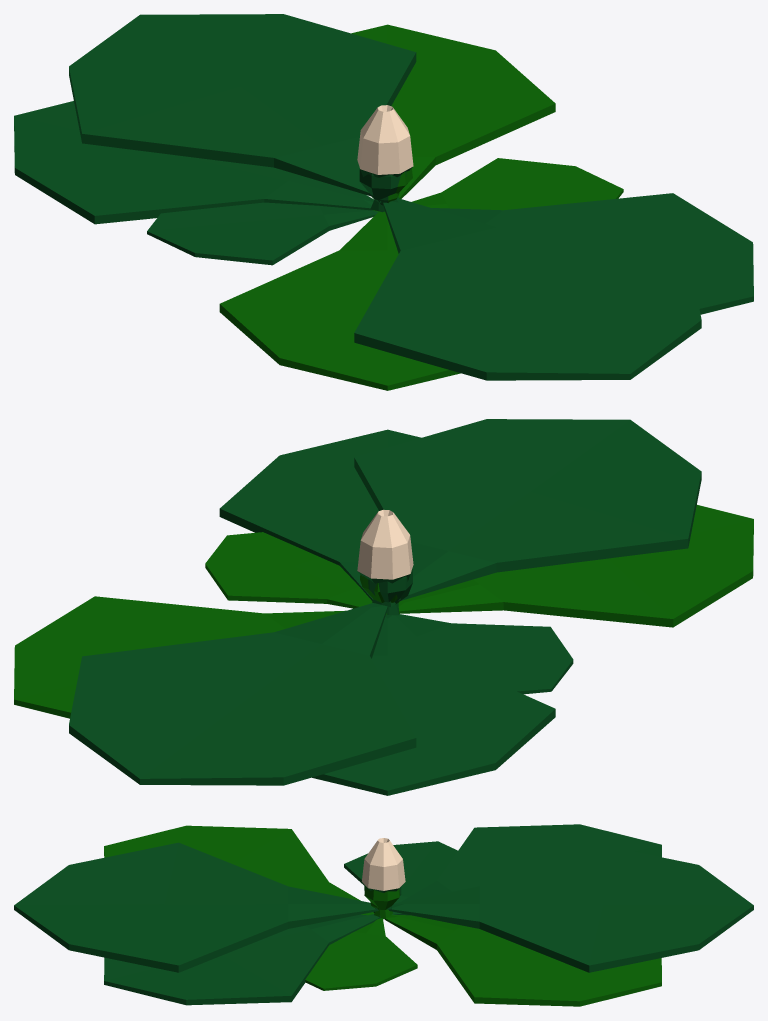
Rendered from lotus.fbx.
3 renders of one model, top to bottom at view 1: azimuth 30°, elevation 25°; view 2: azimuth 150°, elevation 25°; view 3: azimuth 270°, elevation 25°, orthographic. The views are drawn at different scales.
Visible parts, largest first — view 1: Plane.002; view 2: Plane.002; view 3: Plane.002.
Boxes of the visible parts, x1,y1,x2,y2 form: Plane.002: [14, 14, 753, 390]; Plane.002: [14, 419, 753, 795]; Plane.002: [14, 824, 753, 1006].
Size of the model in its own units: 382 by 78.77 by 675.
